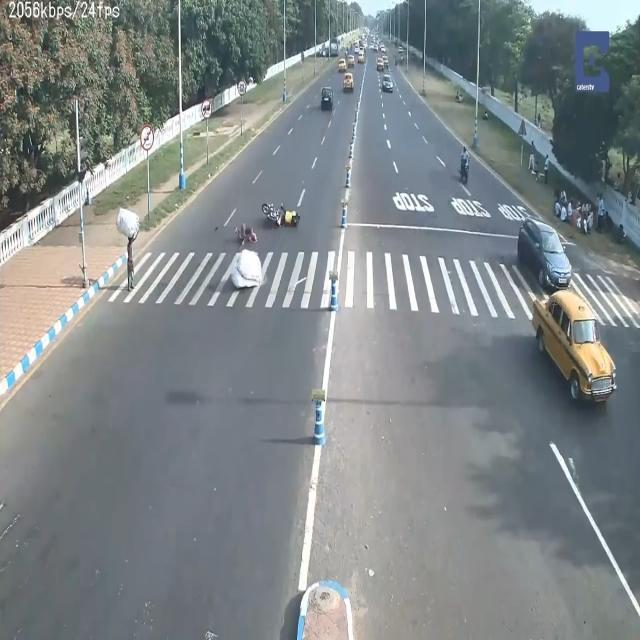accident: (254, 196, 313, 231), (235, 214, 263, 249)
